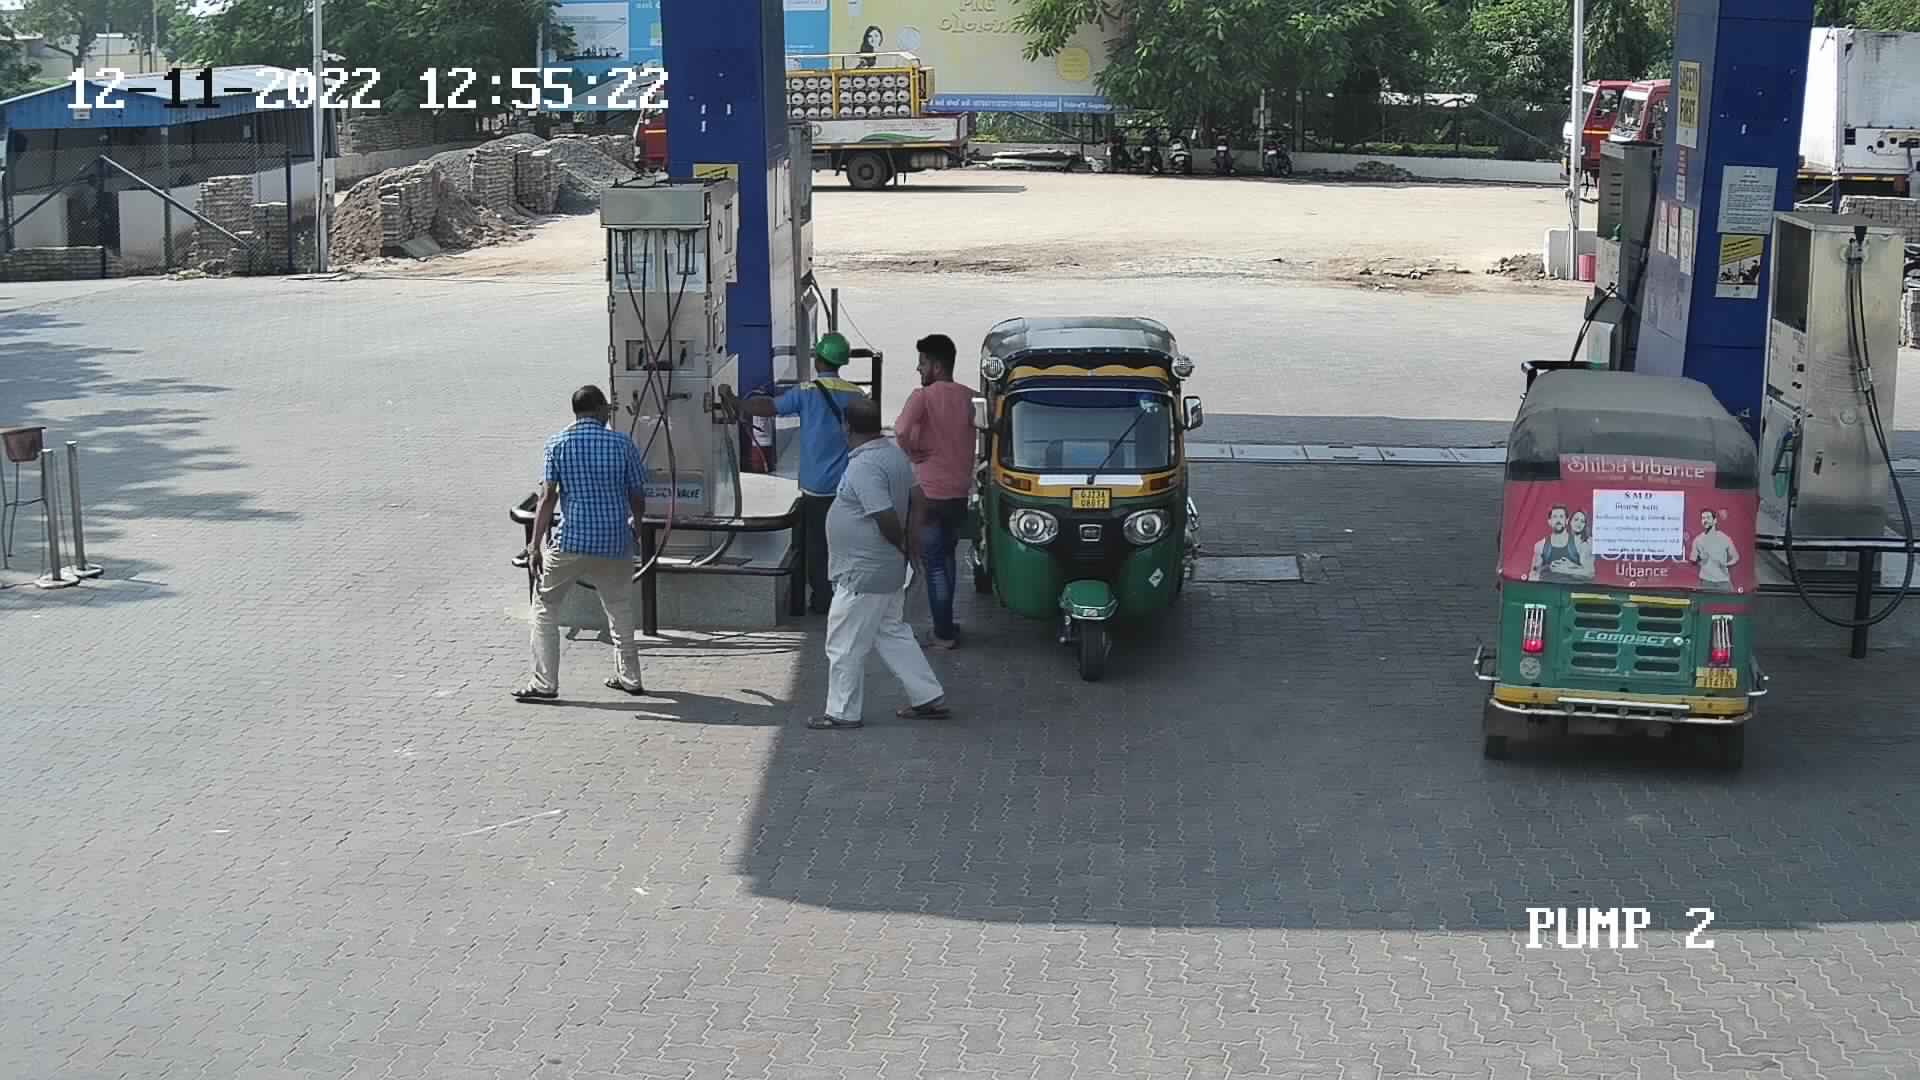Auto: (1465, 324, 1768, 793), (960, 309, 1209, 695)
Bike: (1255, 117, 1302, 179), (1156, 113, 1199, 179), (1204, 105, 1242, 177), (1127, 117, 1168, 179), (1092, 113, 1134, 173)
HMV: (778, 46, 982, 193), (1787, 15, 1917, 208), (1542, 65, 1676, 191), (1597, 71, 1676, 165)
Others: (757, 324, 874, 618)
